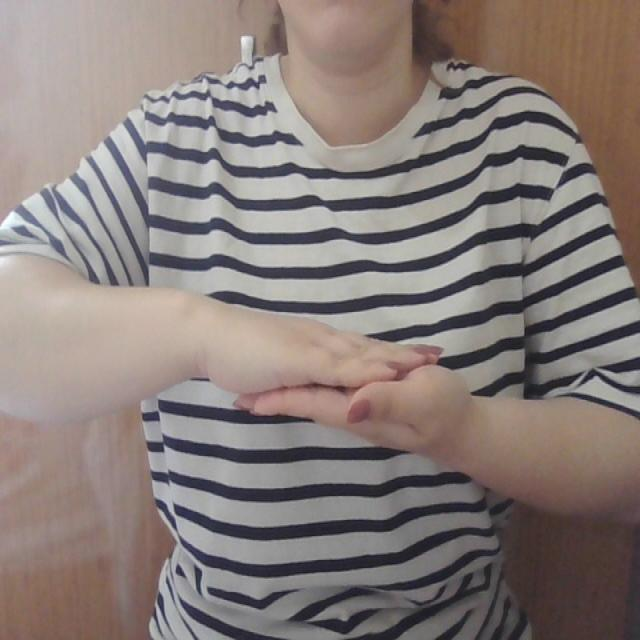Arkadas: (74, 287, 626, 483)
